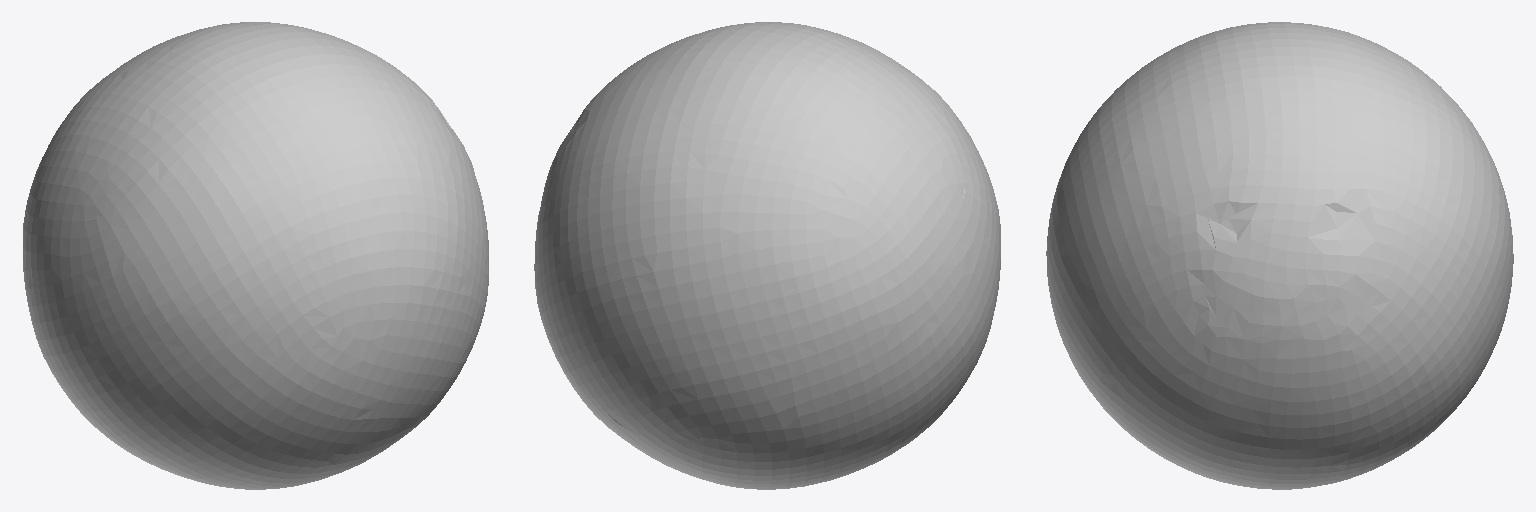
Rendered from retopoly.obj.
3 renders of one model, left to right at view 1: azimuth 30°, elevation 25°; view 2: azimuth 150°, elevation 25°; view 3: azimuth 270°, elevation 25°, orthographic.
Bounding box in the file's own units: 1.85 × 1.86 × 1.85.